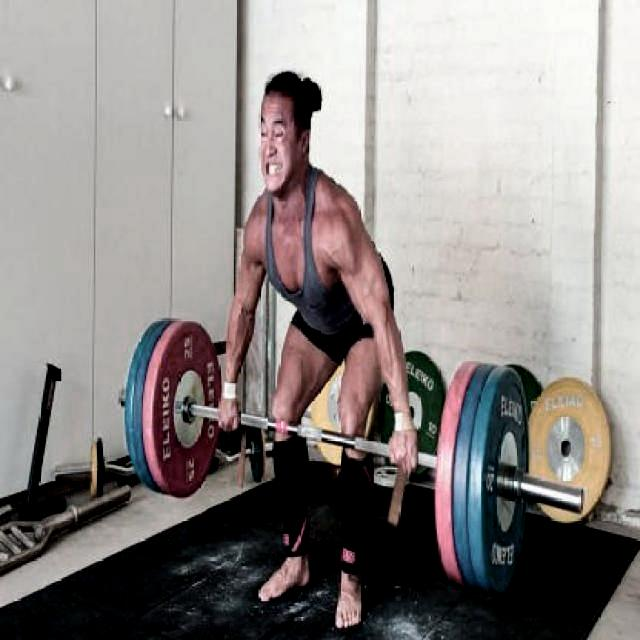barbell: (472, 362, 600, 609)
